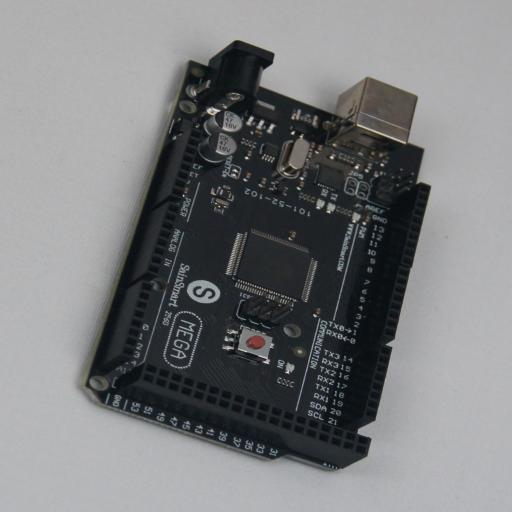Arduino Mega 2560 -Black-: (85, 40, 430, 472)
